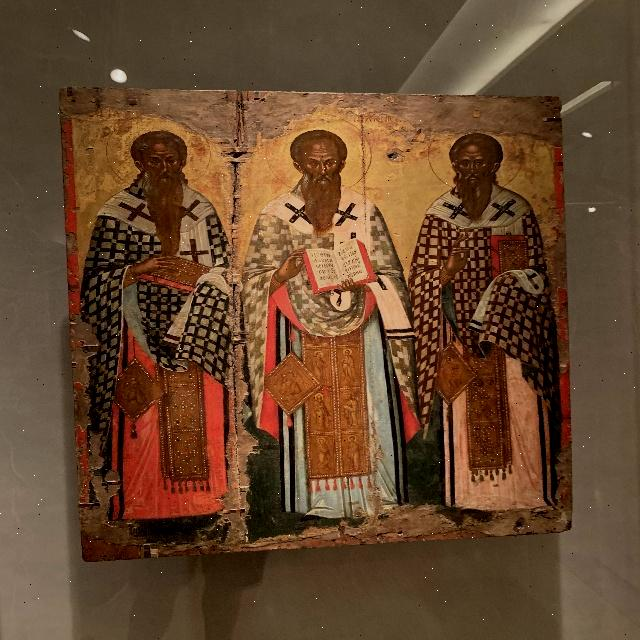aura: (267, 113, 370, 190), (107, 113, 211, 188), (426, 117, 519, 191)
book: (303, 239, 375, 290), (156, 256, 207, 291), (491, 235, 531, 279)
church_father: (63, 86, 570, 537)
cross: (116, 196, 153, 229), (489, 198, 525, 225), (282, 201, 312, 229), (439, 198, 472, 223), (333, 202, 360, 232), (181, 237, 211, 262), (180, 197, 203, 229)
